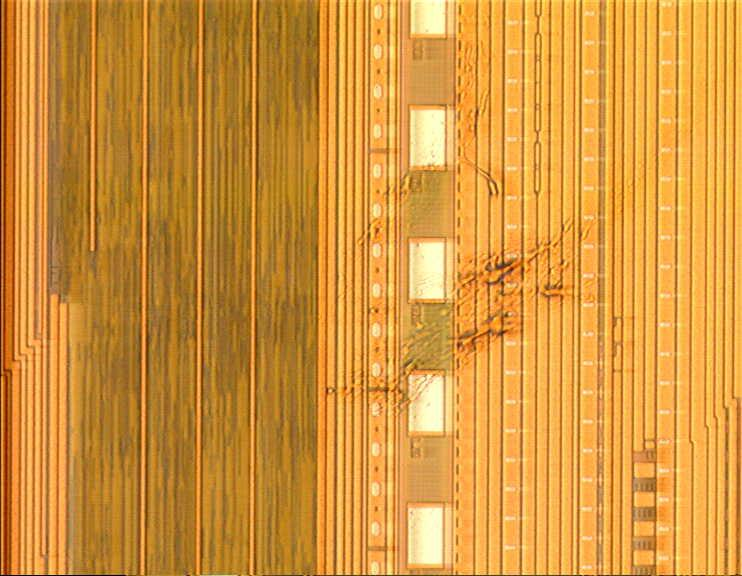PO CONTAMINATION: (323, 32, 679, 412)
